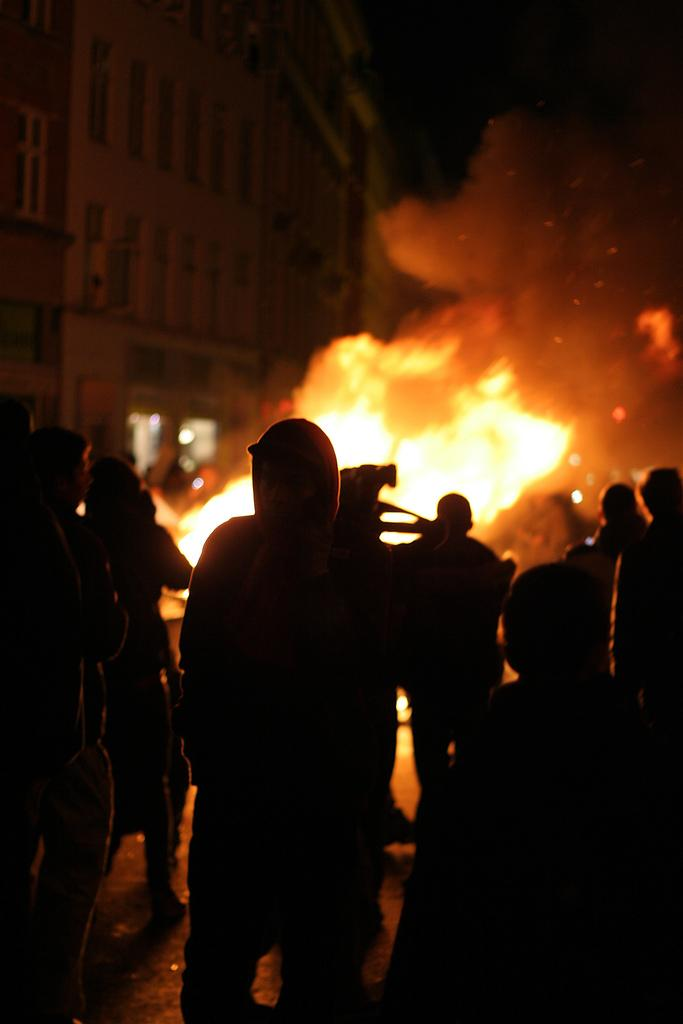fire: (315, 365, 558, 525)
